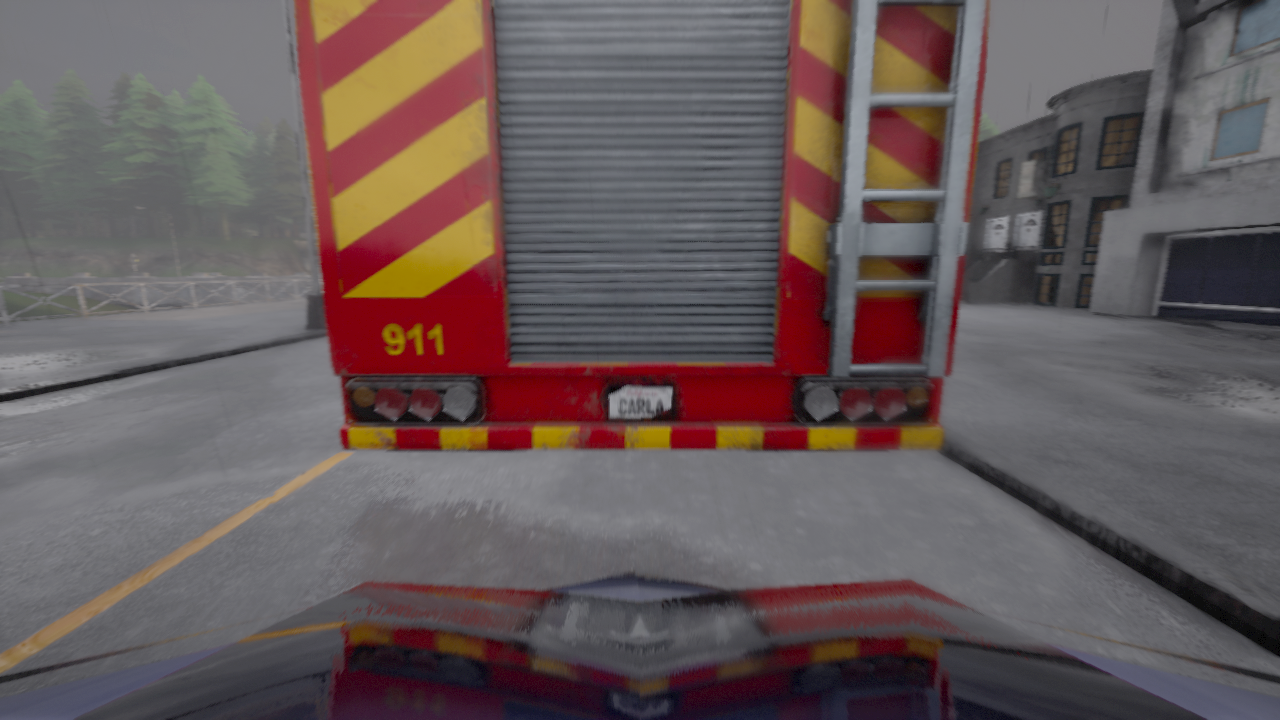cyclist: (294, 0, 989, 450), (0, 569, 1279, 719)
